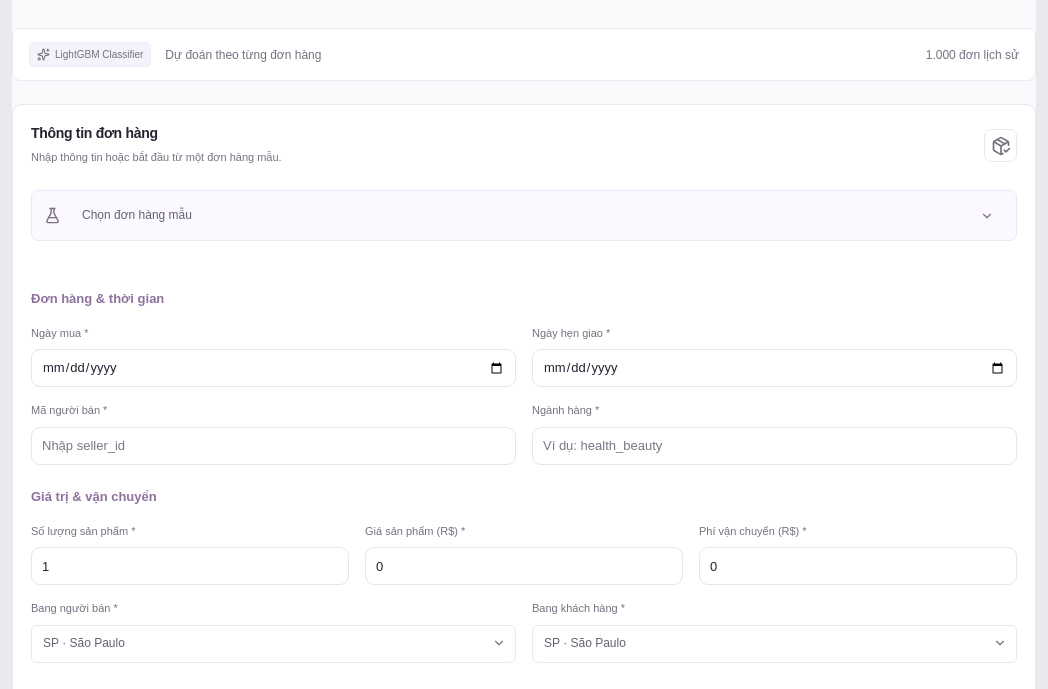
Scenario: Delivery Risk › maps HTTP 422 errors to the responsible field
Select "Mẫu 1 · Health Beauty · SP" in the dropdown named "Tải đơn hàng mẫu" at [538, 216], box [71,201,1004,230]
(page scrolled)
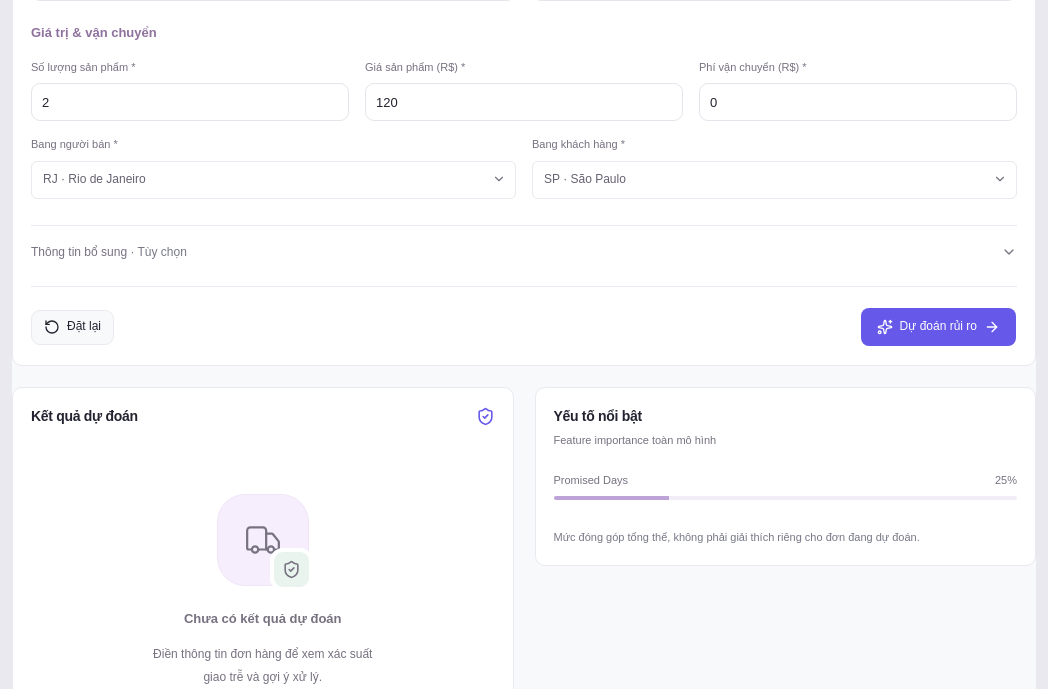
Click the button "Dự đoán rủi ro" at [938, 327], box [860,307,1017,347]
(page scrolled)
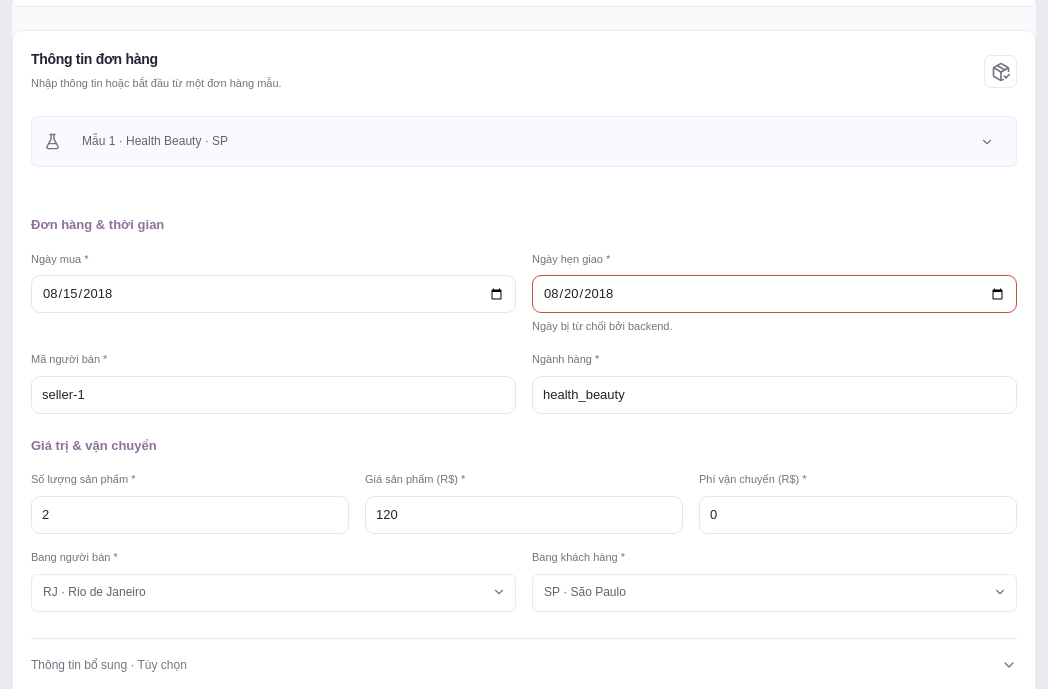
expect the text "Ngày bị từ chối bởi backend." is shown: met, box [532,320,672,332]
